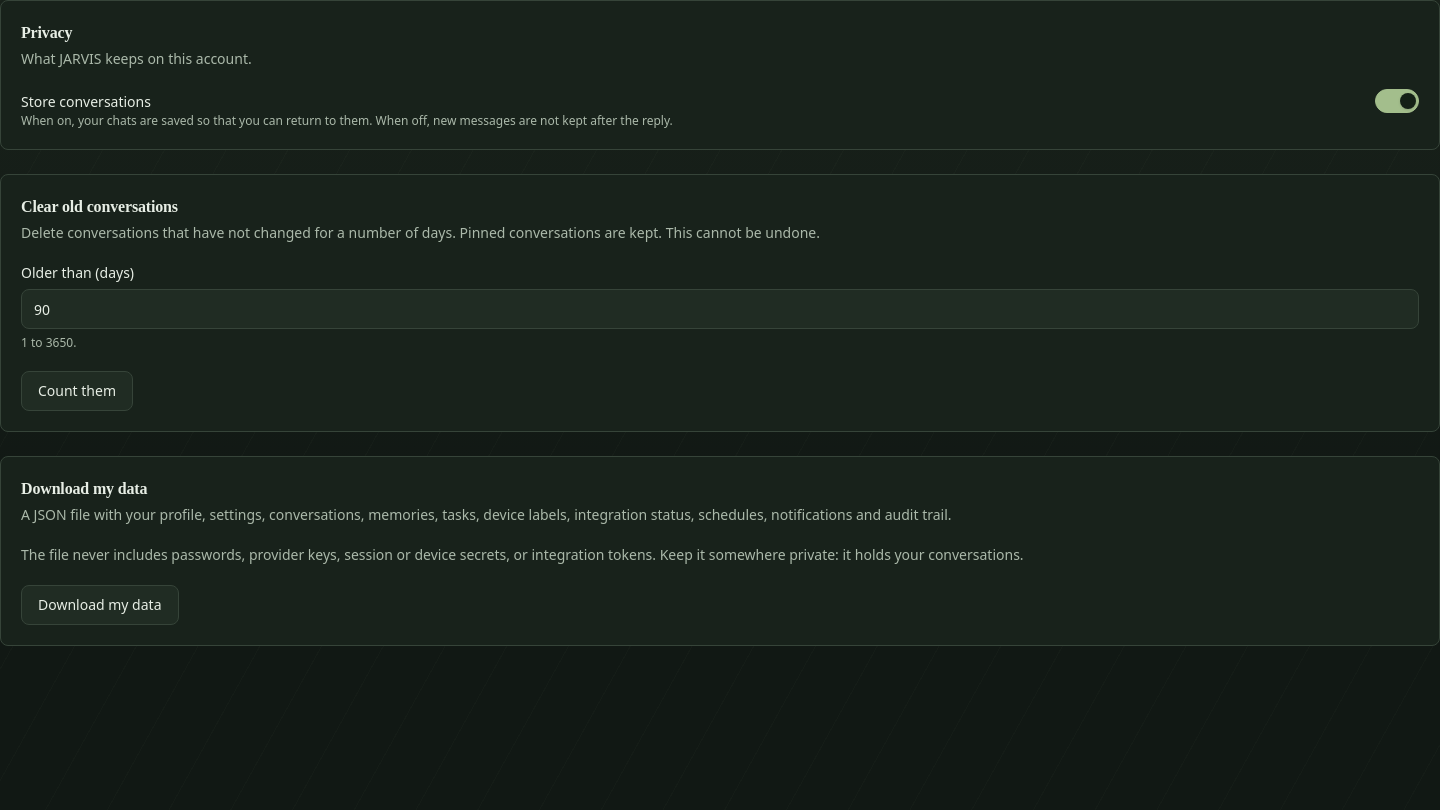
download my data › says when the export fails, in words
Click the button "Download my data": (100,605) [21, 585, 178, 625]
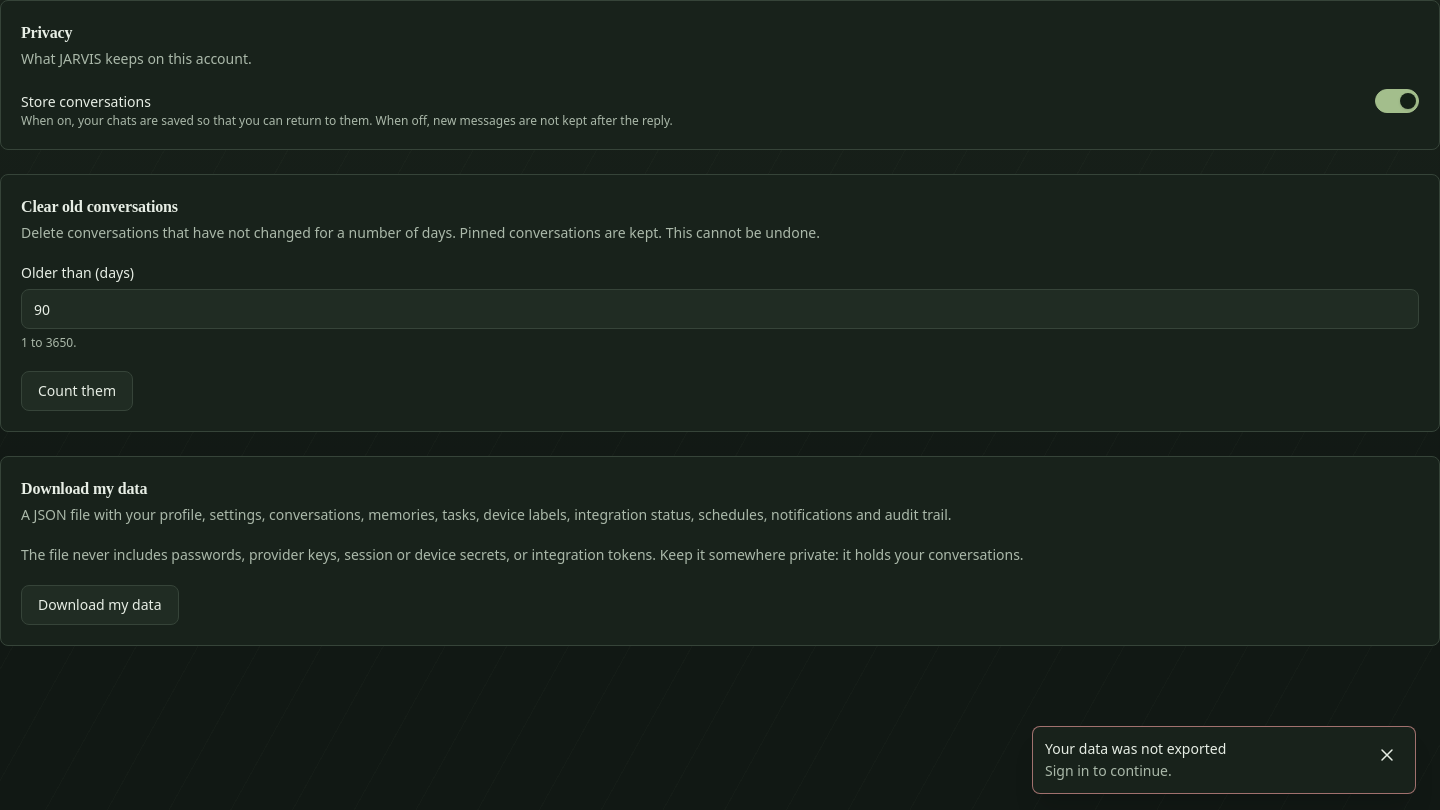
Expected: the text "Your data was not exported" is shown, [1045, 739, 1226, 758]
